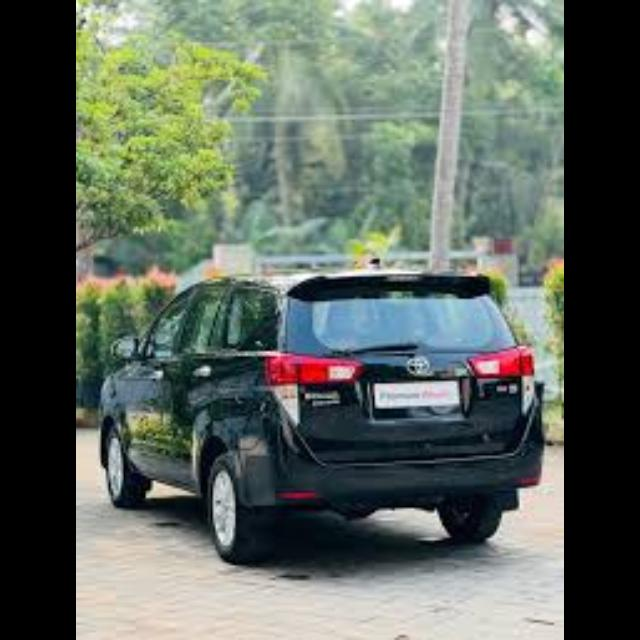vehicles: (96, 275, 560, 565)
